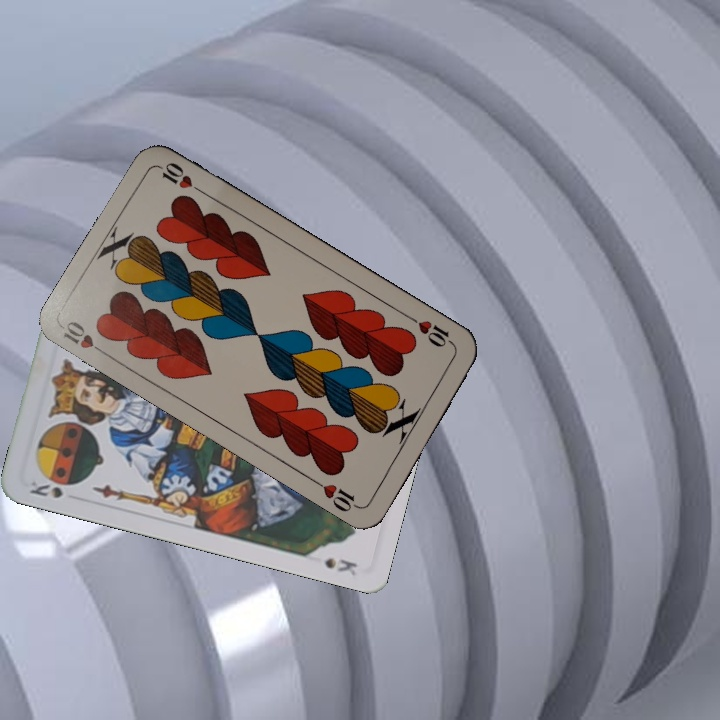H10: (57, 317, 112, 359), (405, 312, 458, 350)
SK: (25, 477, 65, 501)
